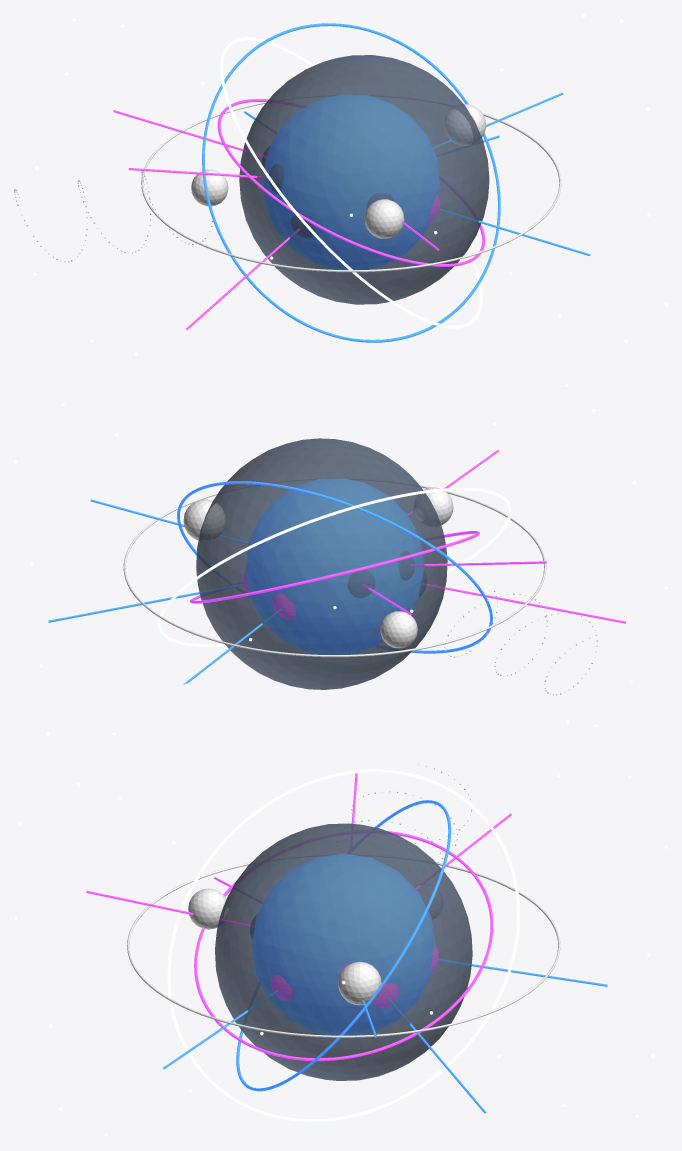
Rendered from wytnet-3d-model.glb.
3 views of the same model, one above another, from view 1: azimuth 30°, elevation 25°; view 2: azimuth 150°, elevation 25°; view 3: azimuth 270°, elevation 25° (orthographic). The views are drawn at different scales.
Visible parts, largest first — view 1: WytNet_Core, WytNet_CoreGlow, WytNet_Orbit_2, WytNet_OuterOrbit, WytNet_Orbit_3, WytNet_Orbit_1, WytNet_Service_Marketplace, WytNet_Service_Payments, WytNet_Service_SSO; view 2: WytNet_Core, WytNet_CoreGlow, WytNet_OuterOrbit, WytNet_Orbit_3, WytNet_Orbit_2, WytNet_Service_Payments, WytNet_Orbit_1, WytNet_Service_SSO, WytNet_Service_Marketplace, WytNet_Node_06, WytNet_Link_8, WytNet_Link_7; view 3: WytNet_Core, WytNet_CoreGlow, WytNet_Orbit_3, WytNet_OuterOrbit, WytNet_Orbit_1, WytNet_Orbit_2, WytNet_Service_Payments, WytNet_Service_Marketplace.
Part boxes in pixels (<box>): WytNet_Core: <box>239,55,489,304</box>; WytNet_CoreGlow: <box>262,95,439,269</box>; WytNet_Orbit_2: <box>202,23,500,342</box>; WytNet_OuterOrbit: <box>141,102,561,272</box>; WytNet_Orbit_3: <box>220,37,482,328</box>; WytNet_Orbit_1: <box>217,99,484,266</box>; WytNet_Service_Marketplace: <box>364,199,404,238</box>; WytNet_Service_Payments: <box>444,104,486,145</box>; WytNet_Service_SSO: <box>191,169,228,206</box>; WytNet_Core: <box>196,438,447,689</box>; WytNet_CoreGlow: <box>245,478,423,654</box>; WytNet_OuterOrbit: <box>123,485,546,657</box>; WytNet_Orbit_3: <box>158,487,511,646</box>; WytNet_Orbit_2: <box>177,481,492,653</box>; WytNet_Service_Payments: <box>183,499,225,541</box>; WytNet_Orbit_1: <box>190,531,479,603</box>; WytNet_Service_SSO: <box>380,611,417,648</box>; WytNet_Service_Marketplace: <box>414,487,453,525</box>; WytNet_Node_06: <box>348,570,374,597</box>; WytNet_Link_8: <box>426,584,625,623</box>; WytNet_Link_7: <box>48,584,243,622</box>; WytNet_Core: <box>215,823,472,1080</box>; WytNet_CoreGlow: <box>252,854,435,1035</box>; WytNet_Orbit_3: <box>167,769,519,1121</box>; WytNet_OuterOrbit: <box>127,862,560,1037</box>; WytNet_Orbit_1: <box>194,831,493,1061</box>; WytNet_Orbit_2: <box>236,800,451,1091</box>; WytNet_Service_Payments: <box>338,961,381,1005</box>; WytNet_Service_Marketplace: <box>188,888,228,929</box>.
Size of the model in its own units: 8.69 by 3.47 by 8.34.
